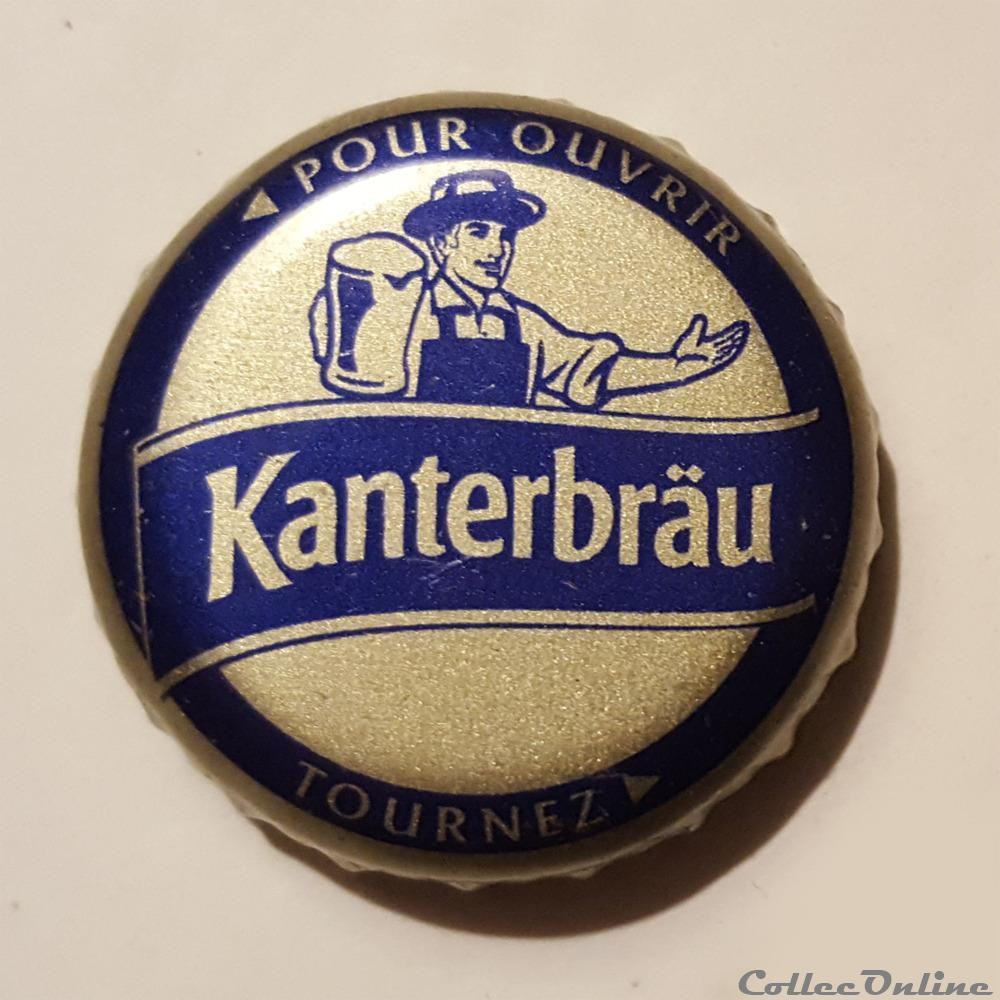metal: (99, 93, 883, 888)
